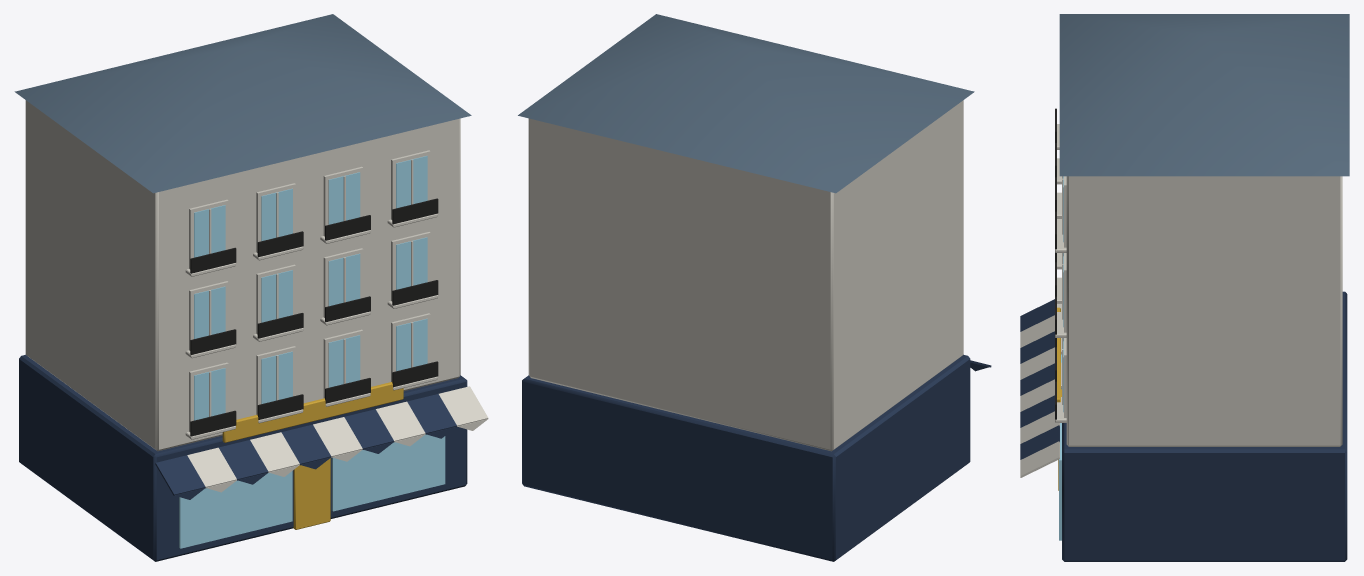
File: 133_immeuble_boutique_luxe.fbx
3 renders of one model, left to right at view 1: azimuth 30°, elevation 25°; view 2: azimuth 150°, elevation 25°; view 3: azimuth 270°, elevation 25°, orthographic. The views are drawn at different scales.
Parts seen in each view (by area): view 1: Murs, Auvent, Vitrine, Enseigne; view 2: Murs; view 3: Murs, Auvent.
Part boxes in pixels (x1,y1,x2,y2): Murs: (14, 14, 471, 561); Auvent: (155, 386, 488, 499); Vitrine: (179, 434, 445, 548); Enseigne: (222, 382, 403, 442); Murs: (518, 14, 974, 561); Murs: (1055, 14, 1349, 561); Auvent: (1020, 299, 1059, 477).
Bounding box in the file's own units: 3.92 × 5.04 × 3.36.
1 material, 1 textured.
